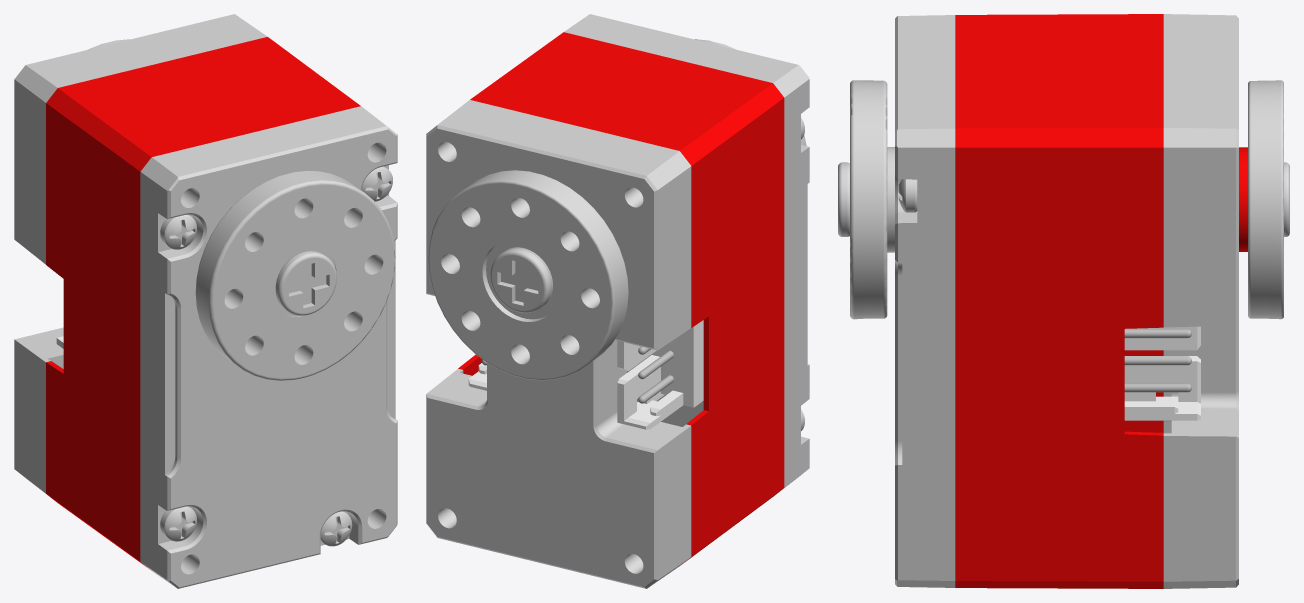
The picture shows the model from 3 angles, left to right: view 1: azimuth 30°, elevation 25°; view 2: azimuth 150°, elevation 25°; view 3: azimuth 270°, elevation 25°; orthographic projection. The views are drawn at different scales.
Visible parts, largest first — view 1: SJ-WK00-0138-TOPCABINET, DC15_A01_CASE_M_DUMMY, SJ-DP00-0003_HORN, SJ-WK00-0142-BOTTOMCASE, HL-3608_ASM_52, PHS_1_7X20_5_DC10_3_1 (×3), PHS_1_7X20_5_DC10_3; view 2: SJ-WK00-0142-BOTTOMCASE, DC15_A01_CASE_M_DUMMY, SJ-FDP0-0004-HORN_IDLE2, SJ-WK00-0138-TOPCABINET, AMP-3P-2, HL-3608_ASM_52; view 3: DC15_A01_CASE_M_DUMMY, SJ-WK00-0142-BOTTOMCASE, SJ-WK00-0138-TOPCABINET, SJ-DP00-0003_HORN, SJ-FDP0-0004-HORN_IDLE2, AMP-3P-2_1, HL-3608_ASM_52, PHS_1_7X20_5_DC10_3_1.
Boxes of the visible parts, x1,y1,x2,y2 form: SJ-WK00-0138-TOPCABINET: [140, 106, 397, 588]; DC15_A01_CASE_M_DUMMY: [46, 37, 360, 569]; SJ-DP00-0003_HORN: [195, 170, 395, 380]; SJ-WK00-0142-BOTTOMCASE: [14, 14, 267, 499]; HL-3608_ASM_52: [275, 251, 336, 315]; PHS_1_7X20_5_DC10_3_1 (×3): [160, 166, 392, 541]; PHS_1_7X20_5_DC10_3: [320, 511, 352, 546]; SJ-WK00-0142-BOTTOMCASE: [426, 100, 691, 588]; DC15_A01_CASE_M_DUMMY: [458, 32, 784, 562]; SJ-FDP0-0004-HORN_IDLE2: [428, 170, 628, 380]; SJ-WK00-0138-TOPCABINET: [564, 14, 809, 494]; AMP-3P-2: [617, 320, 703, 429]; HL-3608_ASM_52: [490, 248, 551, 313]; DC15_A01_CASE_M_DUMMY: [955, 14, 1163, 588]; SJ-WK00-0142-BOTTOMCASE: [1163, 14, 1238, 588]; SJ-WK00-0138-TOPCABINET: [895, 15, 955, 587]; SJ-DP00-0003_HORN: [850, 80, 894, 319]; SJ-FDP0-0004-HORN_IDLE2: [1239, 80, 1283, 319]; AMP-3P-2_1: [1124, 326, 1200, 420]; HL-3608_ASM_52: [838, 162, 1289, 236]; PHS_1_7X20_5_DC10_3_1: [898, 179, 917, 212].
Bounding box in the file's own units: 0.02 × 0.034 × 0.0302.
